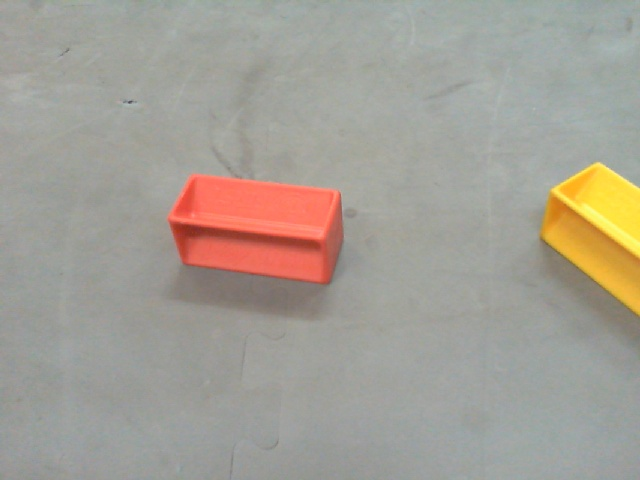RedSample: (167, 173, 345, 286)
YellowSample: (543, 162, 640, 307)
